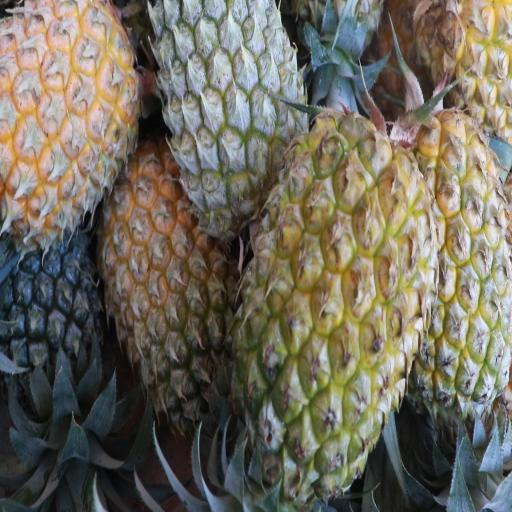------------------------------: (107, 160, 231, 424)
Pineapple - v8 v1: (231, 116, 431, 484), (395, 103, 512, 409), (0, 0, 138, 222)
